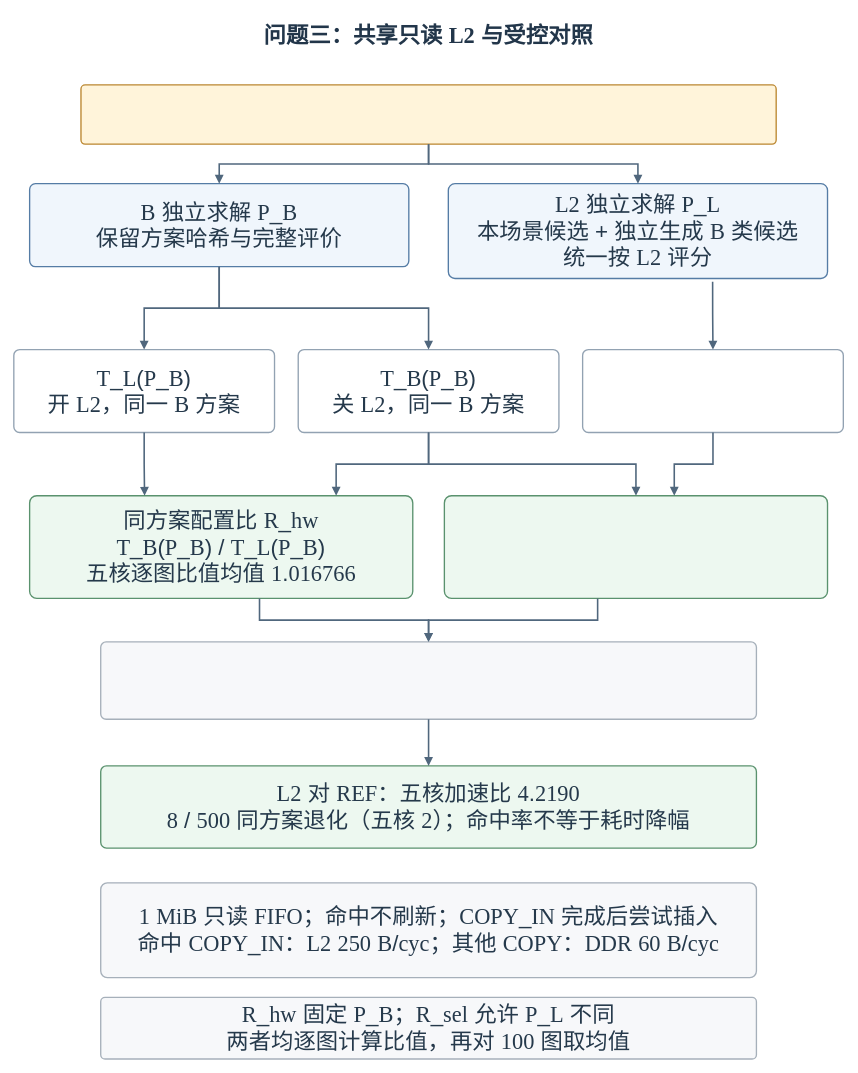
This 858x1073 diagram has some shape labels left out. Each missing label, with the centre of its shape:
100 图 × 1 – 5 核；固定 B / L2 配置与整图单核 REF: [428,114]
500 组配对： 430 组最终方案相同， 70 组不同 R _ sel 含选解变化，不能全归因于 L2 硬件: [428,680]
T _ L ( P _ L ) 开 L2 ，独立选优: [713,391]
分别选优比 R _ sel T _ B ( P _ B ) / T _ L ( P _ L ) 五核逐图比值均值 1 . 027400: [635,547]
